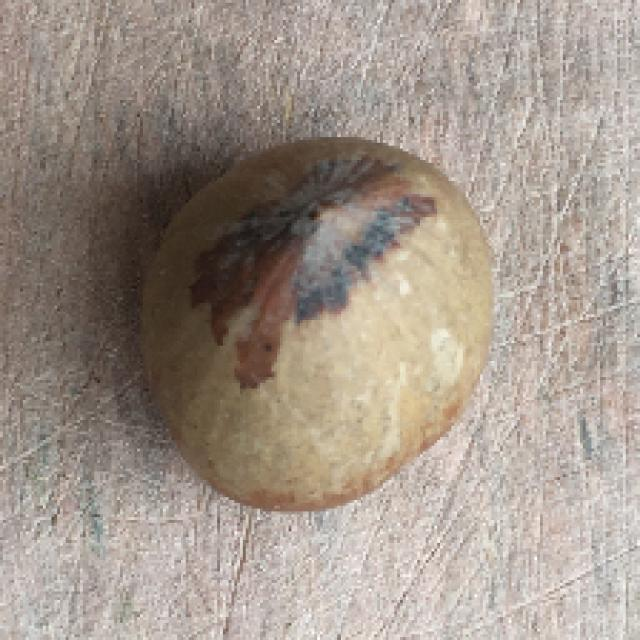damagedHazelnut: (123, 130, 495, 512)
